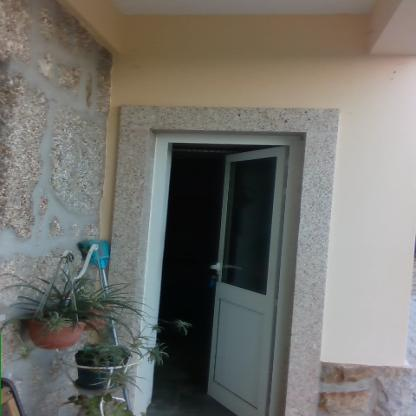semi: (131, 112, 315, 416)
